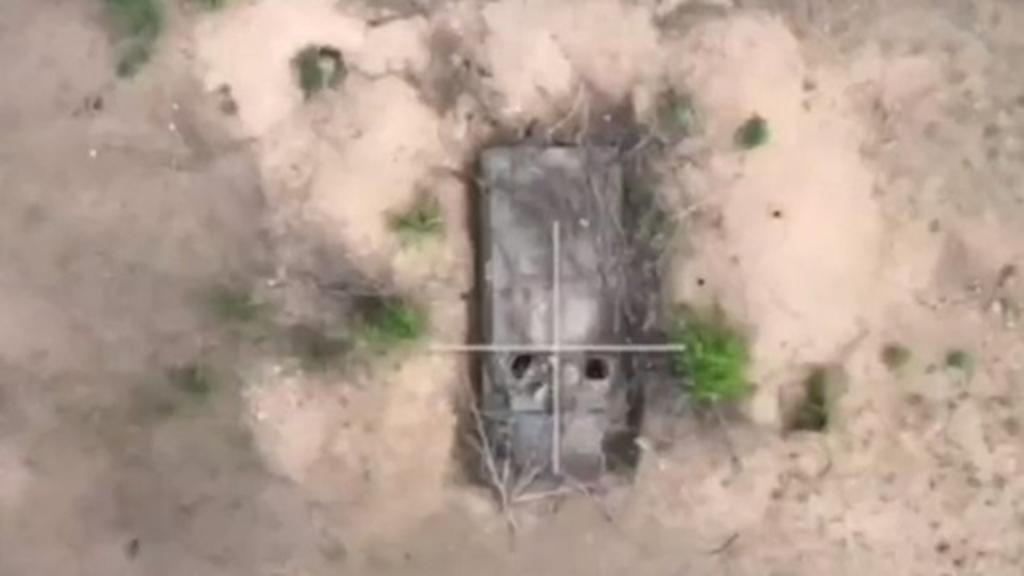APC-IFV: (456, 120, 646, 502)
